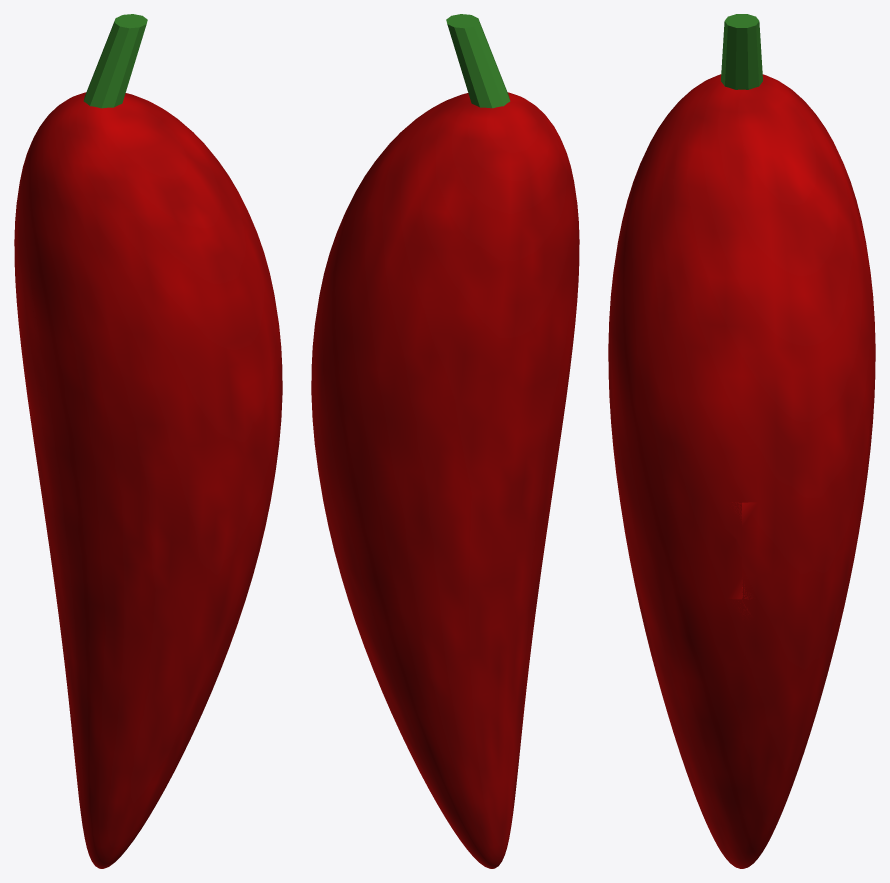
Rendered from piment.glb.
3 views of the same model, side by side, from view 1: azimuth 30°, elevation 25°; view 2: azimuth 150°, elevation 25°; view 3: azimuth 270°, elevation 25° (orthographic). The views are drawn at different scales.
Parts seen in each view (by area): view 1: entier_peau, moitie_B_peau, entier_extra0, moitie_A_peau; view 2: entier_peau, moitie_A_peau, entier_extra0, moitie_B_peau; view 3: entier_peau, moitie_A_peau, moitie_B_peau, entier_extra0.
Boxes of the visible parts, <box> form: entier_peau: <box>14,92,282,868</box>; moitie_B_peau: <box>31,96,281,868</box>; entier_extra0: <box>83,14,147,108</box>; moitie_A_peau: <box>14,92,152,861</box>; entier_peau: <box>311,92,579,868</box>; moitie_A_peau: <box>311,96,562,867</box>; entier_extra0: <box>446,14,510,108</box>; moitie_B_peau: <box>433,93,577,856</box>; entier_peau: <box>608,74,875,868</box>; moitie_A_peau: <box>742,76,875,868</box>; moitie_B_peau: <box>633,76,741,868</box>; entier_extra0: <box>721,14,762,89</box>.
Size of the model in its own units: 0.6372 by 2.18 by 0.6124.
